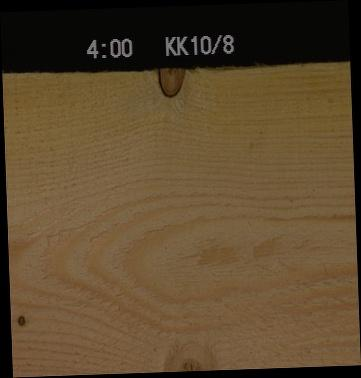dry_knot: (14, 311, 26, 327)
edge_knot: (159, 345, 219, 371), (155, 66, 185, 98)
